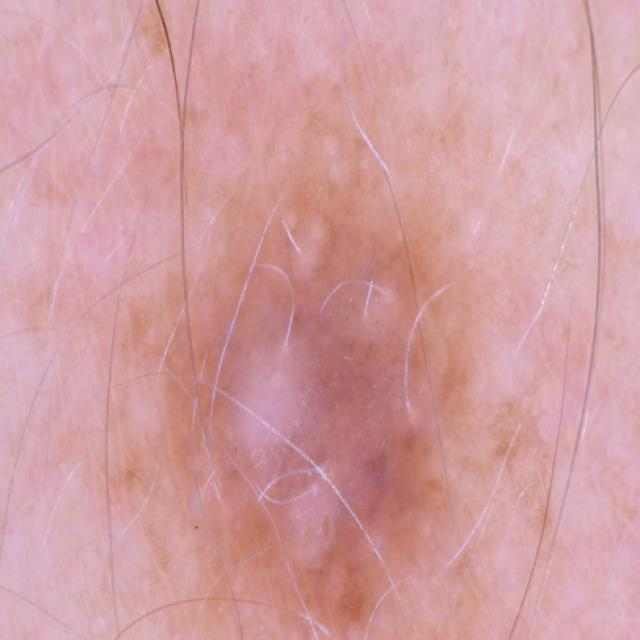Dermatofibroma: (172, 174, 512, 640)
